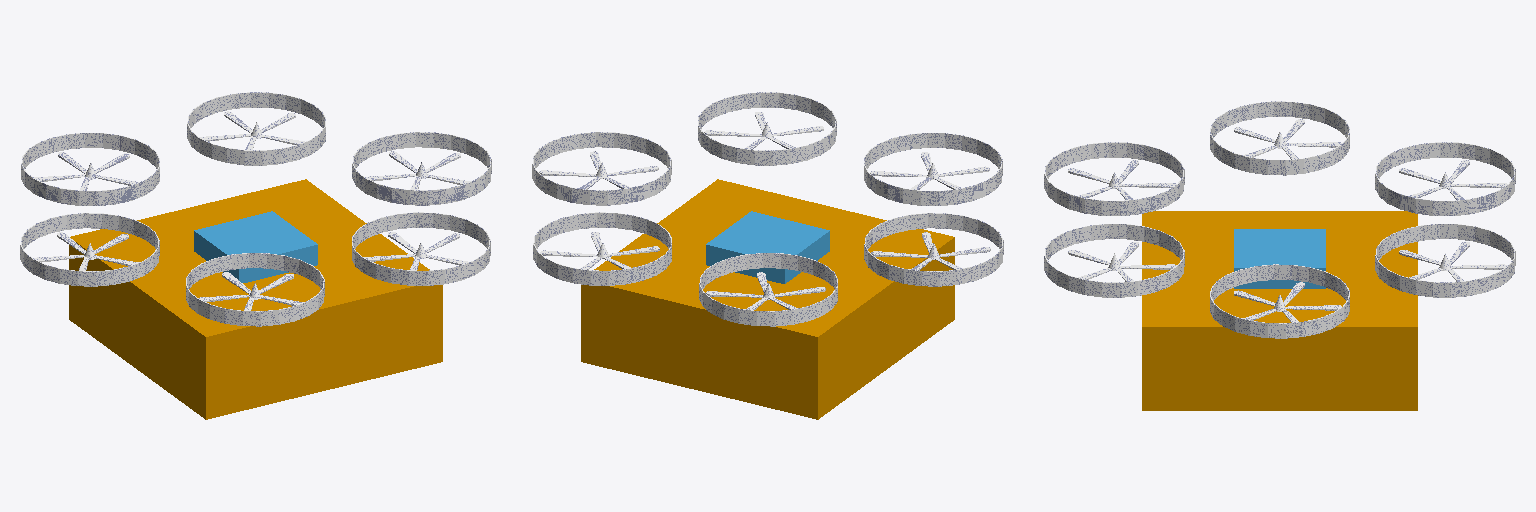
robot.urdf — bluejay:
<?xml version="1.0"?>
<robot name="bluejay">
  <link name="base_link">
    <visual>
      <geometry>
        <box size="0.3 0.3 0.1"/>
      </geometry>
    </visual>
    <collision>
      <geometry>
        <box size="0.3 0.3 0.1"/>
      </geometry>
    </collision>
    <inertial>
      <mass value="3"/>
      <inertia ixx="0.01" ixy="0.0" ixz="0.0" iyy="0.01" iyz="0.0" izz="0.015"/>
    </inertial>
  </link>

  <link name="controller">
    <visual>
      <geometry>
        <box size="0.1 0.1 0.15"/>
      </geometry>
      <material name="white"/>
    </visual>
    <inertial>
      <mass value="3"/>
      <inertia ixx="0.005" ixy="0.0" ixz="0.0" iyy="0.005" iyz="0.0" izz="0.008125"/>
    </inertial>
  </link>

  <joint name="base_to_controller" type="fixed">
    <parent link="base_link"/>
    <child link="controller"/>
    <origin xyz="0 0 0"/>
  </joint>

  <link name="1st_engine">
    <visual>
      <geometry>
        <mesh filename="package://bluejay_description/meshes/Propeller/model.dae" scale="0.05 0.05 0.05"/>
      </geometry>
      <origin rpy="0 0 0" xyz="0 0 +0.1"/>
      <material name="green"/>
    </visual>
    <inertial>
      <mass value="0.5"/>
      <inertia ixx="0.00112" ixy="0.0" ixz="0.0" iyy="0.00112" iyz="0.0" izz="0.00141"/>
    </inertial>
  </link>

  <joint name="base_to_1st_motor" type="fixed">
    <parent link="base_link"/>
    <child link="1st_engine"/>
    <origin xyz="0.21 0 0"/>
  </joint>

    <link name="2nd_engine">
    <visual>
      <geometry>
        <mesh filename="package://bluejay_description/meshes/Propeller/model.dae" scale="0.05 0.05 0.05"/>
      </geometry>
      <origin rpy="0 0 0" xyz="0 0 +0.1"/>
      <material name="green"/>
    </visual>
    <inertial>
      <mass value="0.5"/>
      <inertia ixx="0.00112" ixy="0.0" ixz="0.0" iyy="0.00112" iyz="0.0" izz="0.00141"/>
    </inertial>
  </link>

  <joint name="base_to_2nd_motor" type="fixed">
    <parent link="base_link"/>
    <child link="2nd_engine"/>
    <origin xyz="0.105 0.18 0"/>
  </joint>

    <link name="3rd_engine">
    <visual>
      <geometry>
        <mesh filename="package://bluejay_description/meshes/Propeller/model.dae" scale="0.05 0.05 0.05"/>
      </geometry>
      <origin rpy="0 0 0" xyz="0 0 +0.1"/>
      <material name="green"/>
    </visual>
    <inertial>
      <mass value="0.5"/>
      <inertia ixx="0.00112" ixy="0.0" ixz="0.0" iyy="0.00112" iyz="0.0" izz="0.00141"/>
    </inertial>
  </link>

  <joint name="base_to_3rd_motor" type="fixed">
    <parent link="base_link"/>
    <child link="3rd_engine"/>
    <origin xyz="-0.105 0.18 0"/>
  </joint>

  <link name="4th_engine">
    <visual>
      <geometry>
        <mesh filename="package://bluejay_description/meshes/Propeller/model.dae" scale="0.05 0.05 0.05"/>
      </geometry>
      <origin rpy="0 0 0" xyz="0 0 +0.1"/>
      <material name="green"/>
    </visual>
    <inertial>
      <mass value="0.5"/>
      <inertia ixx="0.00112" ixy="0.0" ixz="0.0" iyy="0.00112" iyz="0.0" izz="0.00141"/>
    </inertial>
  </link>

  <joint name="base_to_4th_motor" type="fixed">
    <parent link="base_link"/>
    <child link="4th_engine"/>
    <origin xyz="-0.21 0 0"/>
  </joint>

  <link name="5th_engine">
    <visual>
      <geometry>
        <mesh filename="package://bluejay_description/meshes/Propeller/model.dae" scale="0.05 0.05 0.05"/>
      </geometry>
      <origin rpy="0 0 0" xyz="0 0 +0.1"/>
      <material name="green"/>
    </visual>
    <inertial>
      <mass value="0.5"/>
      <inertia ixx="0.00112" ixy="0.0" ixz="0.0" iyy="0.00112" iyz="0.0" izz="0.00141"/>
    </inertial>
  </link>

  <joint name="base_to_5th_motor" type="fixed">
    <parent link="base_link"/>
    <child link="5th_engine"/>
    <origin xyz="-0.105 -0.18 0"/>
  </joint>

  <link name="6th_engine">
    <visual>
      <geometry>
        <mesh filename="package://bluejay_description/meshes/Propeller/model.dae" scale="0.05 0.05 0.05"/>
      </geometry>
      <origin rpy="0 0 0" xyz="0 0 +0.1"/>
      <material name="green"/>
    </visual>
    <inertial>
      <mass value="0.5"/>
      <inertia ixx="0.00112" ixy="0.0" ixz="0.0" iyy="0.00112" iyz="0.0" izz="0.00141"/>
    </inertial>
  </link>

  <joint name="base_to_6th_motor" type="fixed">
    <parent link="base_link"/>
    <child link="6th_engine"/>
    <origin xyz="0.105 -0.18 0"/>
  </joint>
</robot>

--- Render facts (derived) ---
The picture shows the robot from 3 angles, left to right: view 1: azimuth 30°, elevation 25°; view 2: azimuth 150°, elevation 25°; view 3: azimuth 270°, elevation 25°; orthographic projection.
Robot: bluejay — 8 links, 7 joints (7 fixed); root link base_link; default pose: all joints at 0.
Links seen in each view (by area): view 1: base_link, 4th_engine, 1st_engine, 2nd_engine, 6th_engine, 5th_engine, 3rd_engine, controller; view 2: base_link, 1st_engine, 4th_engine, 6th_engine, 2nd_engine, 3rd_engine, 5th_engine, controller; view 3: base_link, 6th_engine, 2nd_engine, 5th_engine, 3rd_engine, 1st_engine, 4th_engine, controller.
Link boxes in pixels (x1,y1,x2,y2): base_link: (69, 179, 442, 419); 4th_engine: (20, 213, 159, 286); 1st_engine: (352, 132, 491, 205); 2nd_engine: (187, 92, 325, 165); 6th_engine: (352, 212, 490, 285); 5th_engine: (186, 253, 324, 326); 3rd_engine: (21, 133, 159, 205); controller: (194, 211, 317, 282); base_link: (581, 179, 954, 419); 1st_engine: (532, 132, 671, 205); 4th_engine: (864, 213, 1003, 286); 6th_engine: (698, 92, 836, 165); 2nd_engine: (533, 212, 671, 285); 3rd_engine: (699, 253, 837, 326); 5th_engine: (864, 133, 1002, 205); controller: (706, 211, 829, 283); base_link: (1142, 211, 1417, 410); 6th_engine: (1044, 224, 1184, 297); 2nd_engine: (1375, 224, 1515, 297); 5th_engine: (1044, 142, 1184, 215); 3rd_engine: (1375, 142, 1515, 215); 1st_engine: (1210, 264, 1349, 338); 4th_engine: (1210, 101, 1349, 175); controller: (1234, 229, 1325, 288).
Bounding box of the posed robot: 0.5725 × 0.5125 × 0.1931 m (x, y, z).
6 mesh visuals loaded from 1 distinct referenced files (1 Collada DAE).
